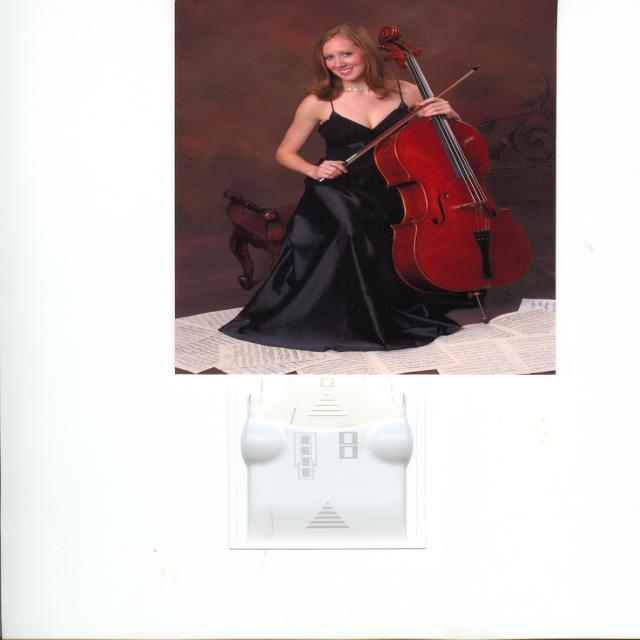cello: (366, 21, 533, 293)
